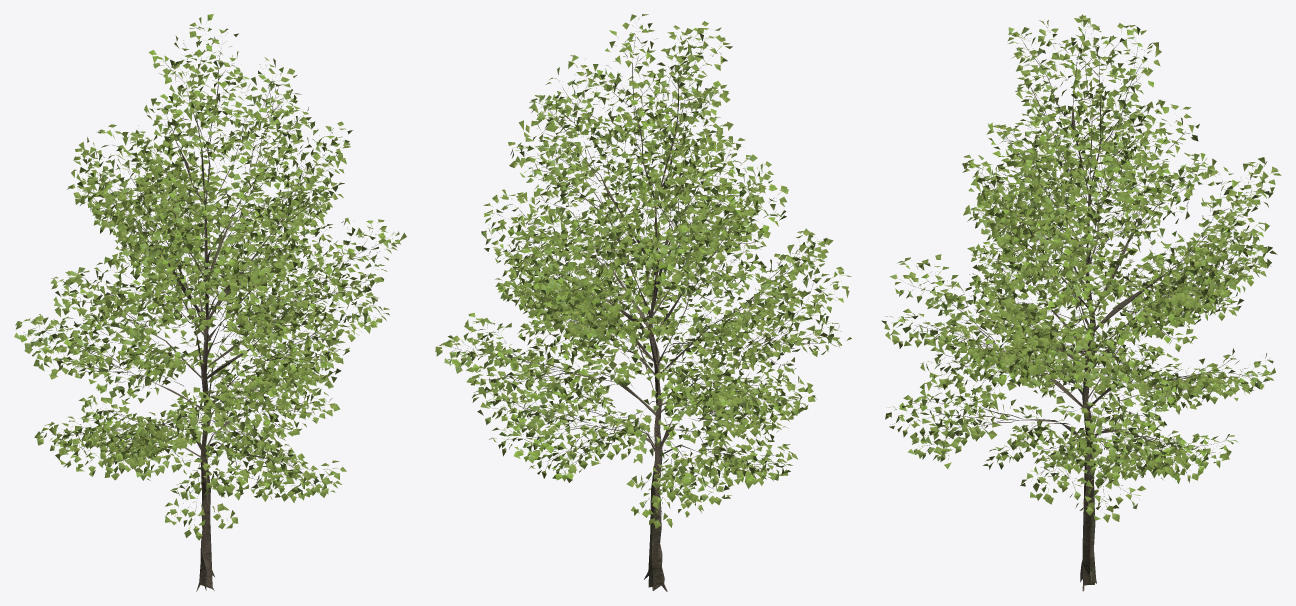
File: tree.glb
3 views of the same model, side by side, from view 1: azimuth 30°, elevation 25°; view 2: azimuth 150°, elevation 25°; view 3: azimuth 270°, elevation 25° (orthographic). The views are drawn at different scales.
Parts seen in each view (by area): view 1: Component5#1_003; view 2: Component5#1_003; view 3: Component5#1_003.
Part boxes in pixels (box(x1,y1,x2,y2)): Component5#1_003: box(14, 14, 406, 591); Component5#1_003: box(435, 14, 851, 591); Component5#1_003: box(881, 14, 1281, 591).
Size of the model in its own units: 2.14 by 3.51 by 2.2.
Materials: 6 (5 with a texture image).
